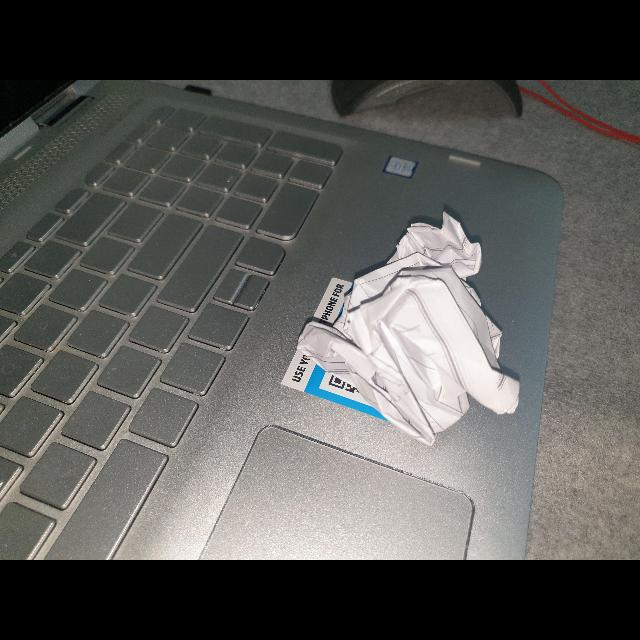scrap_paper: (288, 204, 534, 464)
